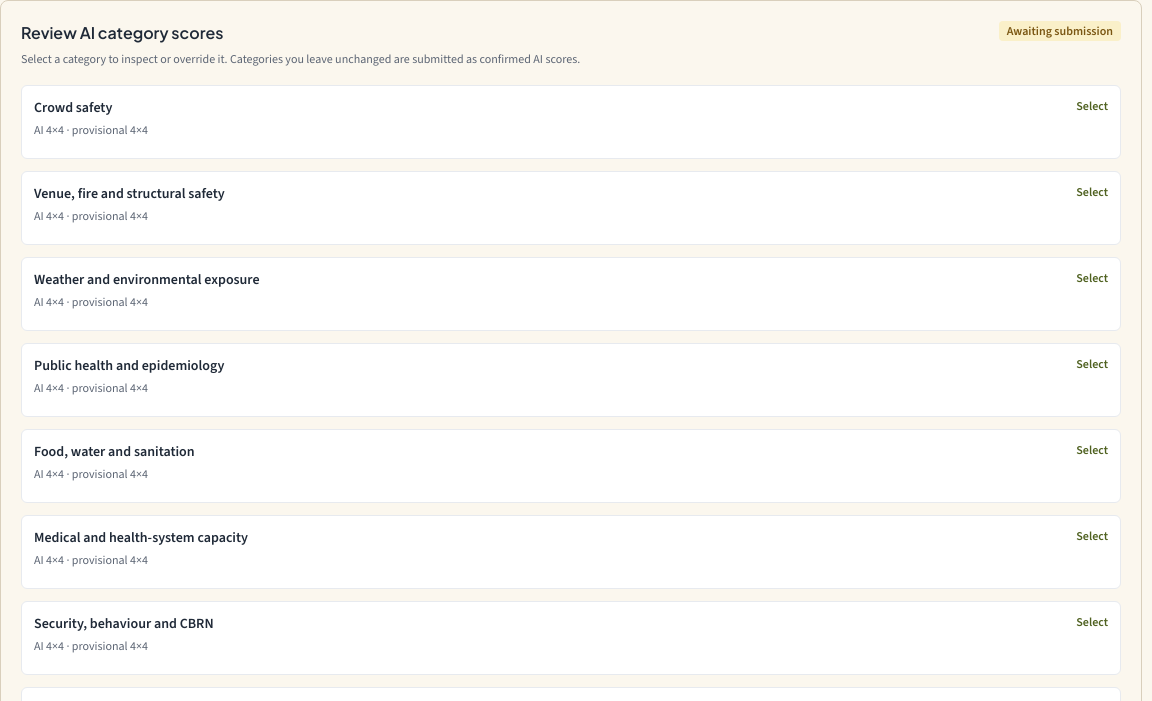
AuthorityScoreReviewForm › keeps the proposal read-only until a category is selected, then reveals inline override fields
Expected: the field labelled "Likelihood" is not shown
Click the button with aria-label "Crowd safety score category".
click(73, 108)  # box [34,98,1108,146]
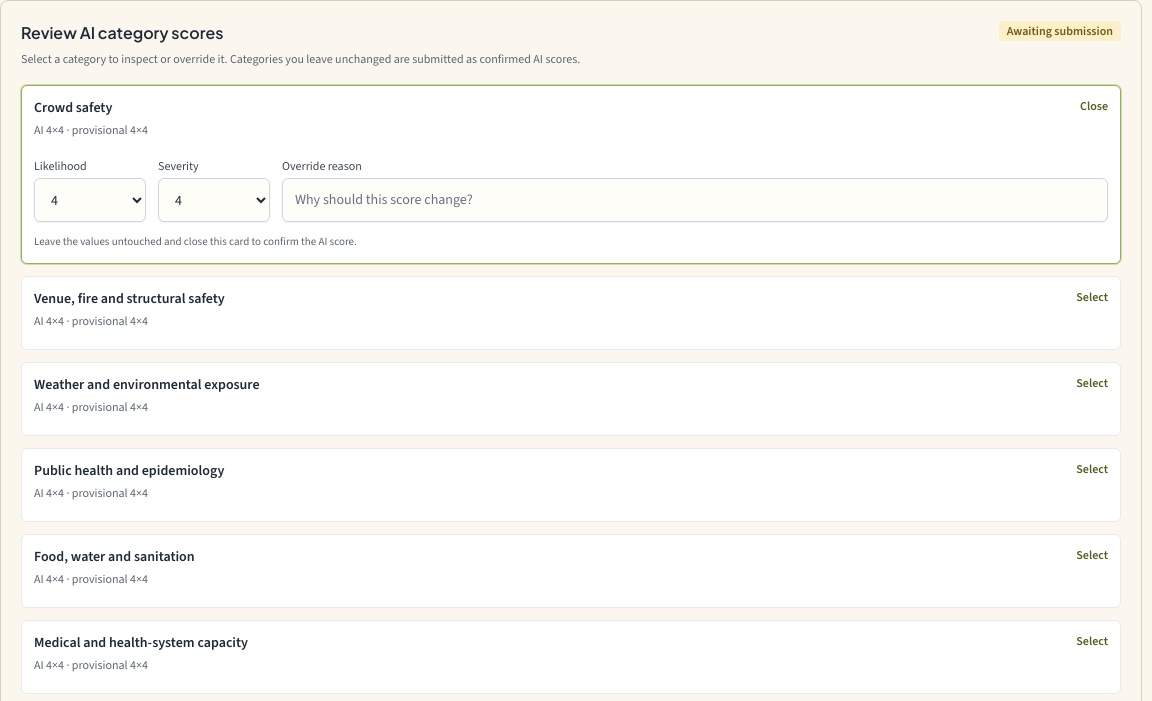
Expected: the dropdown labelled "Likelihood" is shown
Expected: the dropdown labelled "Severity" is shown, [158,178,270,222]
Expected: the field labelled "Override reason" is shown, [282,178,1108,222]
Select "4" in the dropdown labelled "Likelihood" at (90, 200), box [34,178,146,222]
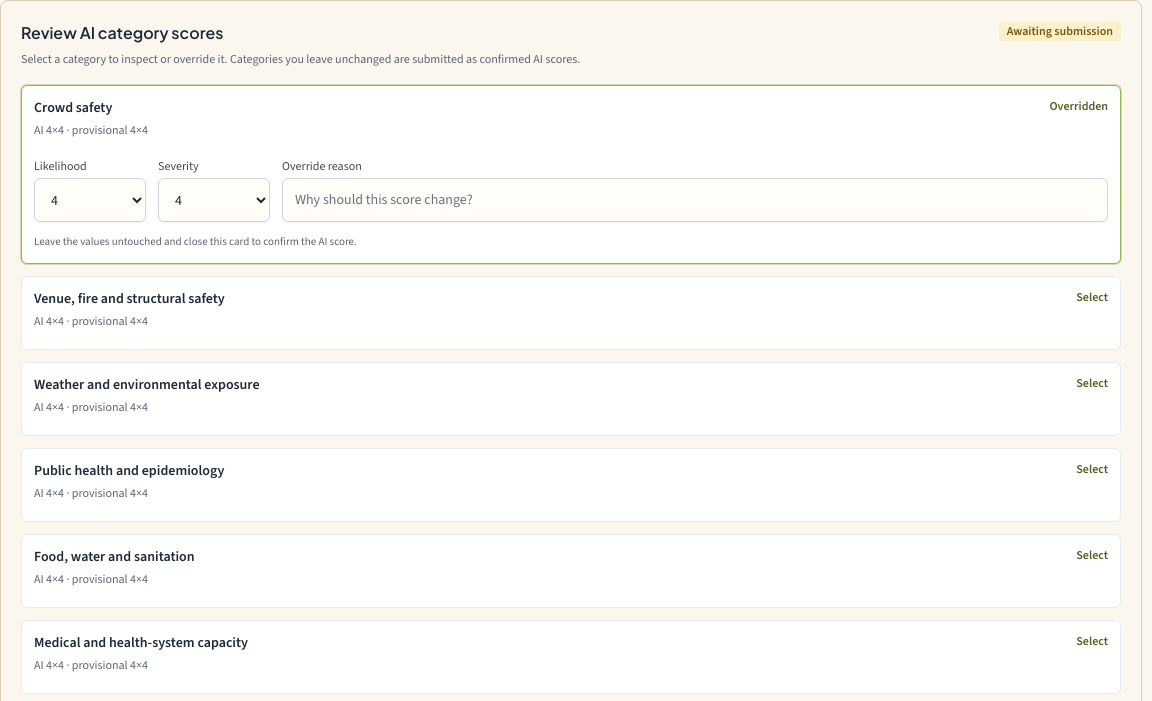
Type "Locally verified crowd evidence supports this score." into the field labelled "Override reason".
click(695, 200); type("Locally verified crowd evidence supports this score.")  # box [282,178,1108,222]
(page scrolled)
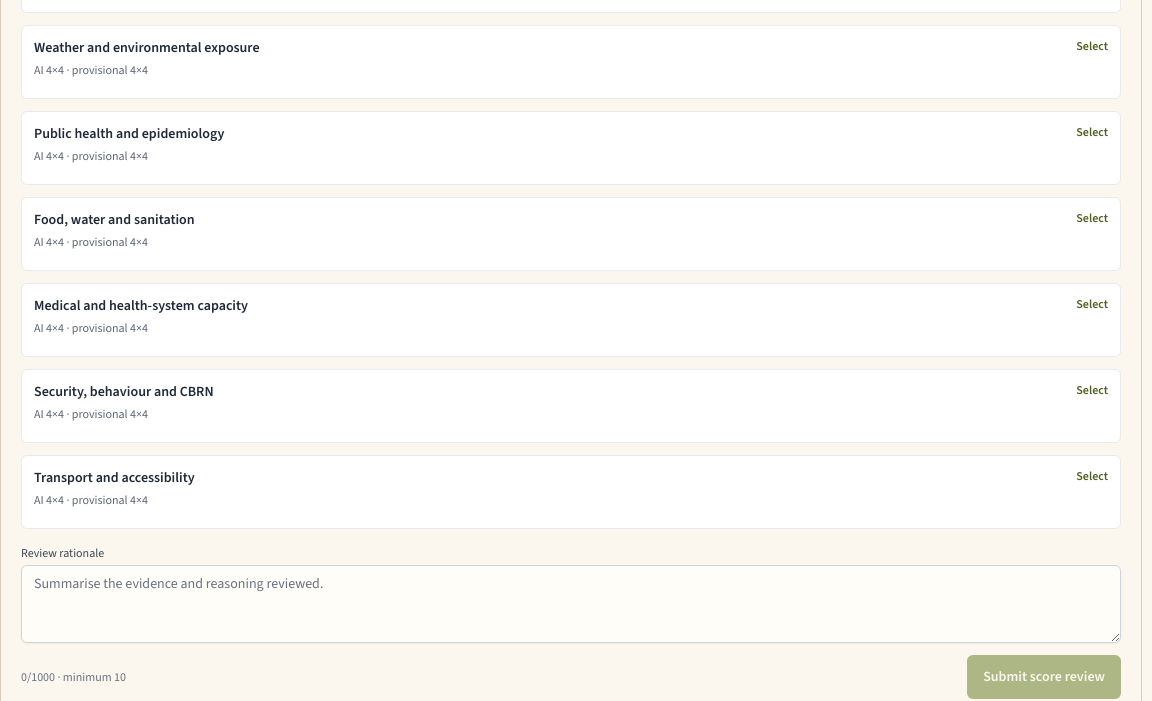
Type "I reviewed the complete evidence package and AI proposal." into the text box labelled "Review rationale".
click(571, 604); type("I reviewed the complete evidence package and AI proposal.")  # box [21,564,1121,642]
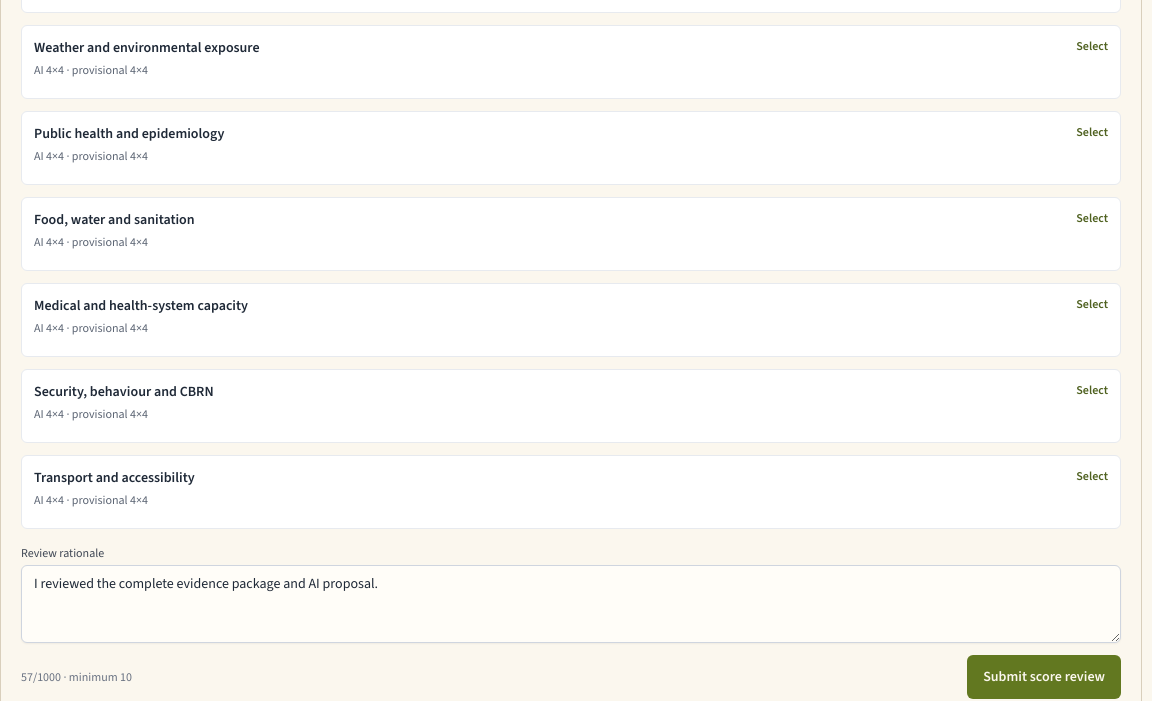
Expected: the button "Submit score review" is enabled, [967,654,1121,698]
